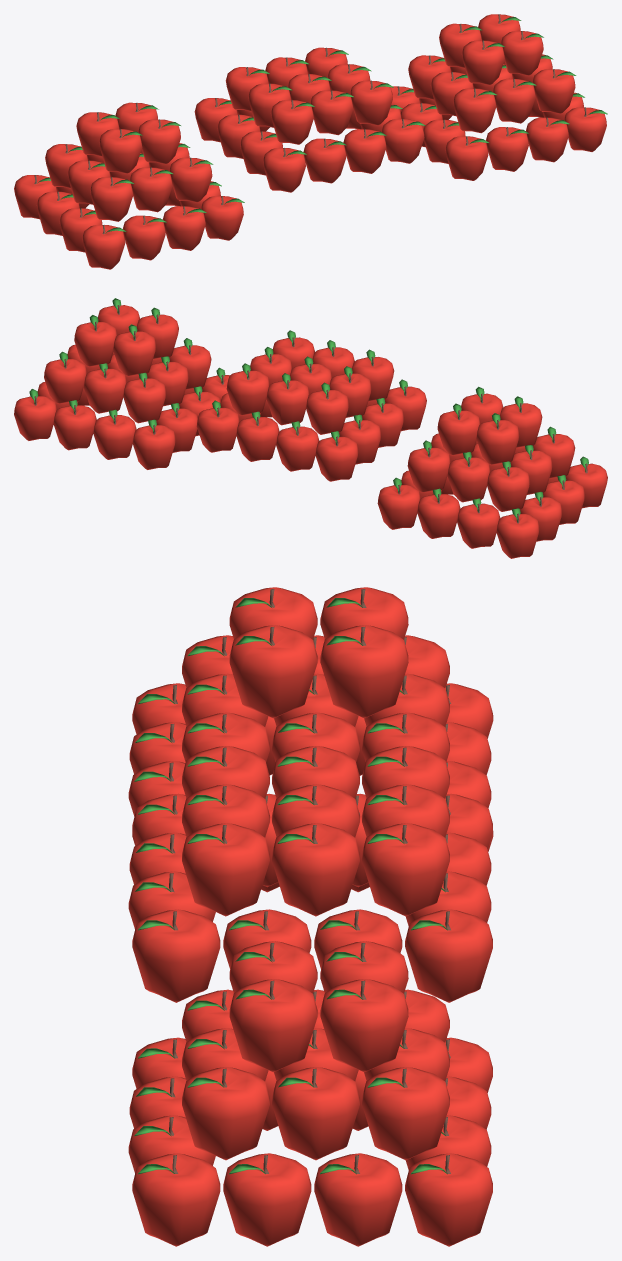
File: SmoothApplePile.obj
3 views of the same model, one above another, from view 1: azimuth 30°, elevation 25°; view 2: azimuth 150°, elevation 25°; view 3: azimuth 270°, elevation 25° (orthographic). The views are drawn at different scales.
Visible parts, largest first — view 1: Apple_Cube.026_Cube.001; view 2: Apple_Cube.026_Cube.001; view 3: Apple_Cube.026_Cube.001.
Boxes of the visible parts, x1=… form: Apple_Cube.026_Cube.001: x1=14, y1=14, x2=607, y2=269; Apple_Cube.026_Cube.001: x1=14, y1=298, x2=607, y2=558; Apple_Cube.026_Cube.001: x1=128, y1=587, x2=493, y2=1246.
Bounding box in the file's own units: 135 × 26.79 × 40.94.
